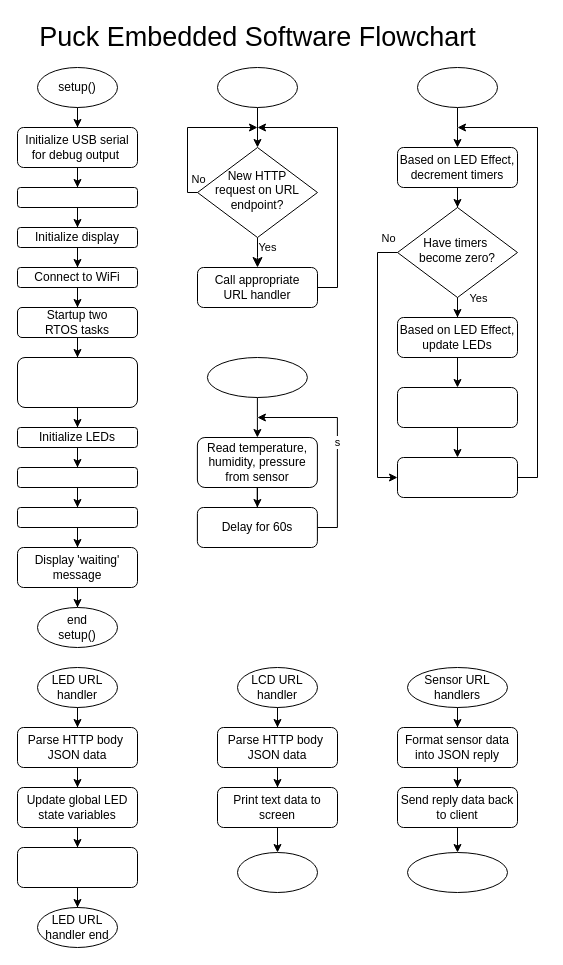
Some shapes in this 563 by 965 pixel diagram are drawn without their labels. The centre of each missing label's shape, as x and y in pixels:
"Based on LED Effect, Reload timers" goes at pixel 457 407.
"Delay 4s" goes at pixel 77 517.
"Delay for 1ms" goes at pixel 457 477.
"Display IP address" goes at pixel 77 477.
"Initialize temp sensor" goes at pixel 77 197.
"Initialize URL endpoints (server) callback functions" goes at pixel 77 382.
"LCD URL handler end" goes at pixel 277 872.
"LED Effect Task" goes at pixel 457 87.
"Main Loop" goes at pixel 257 87.
"Sensor Read Task" goes at pixel 256 377.
"Sensor URL handlers end" goes at pixel 457 872.
"Set initial LED state" goes at pixel 77 867.
